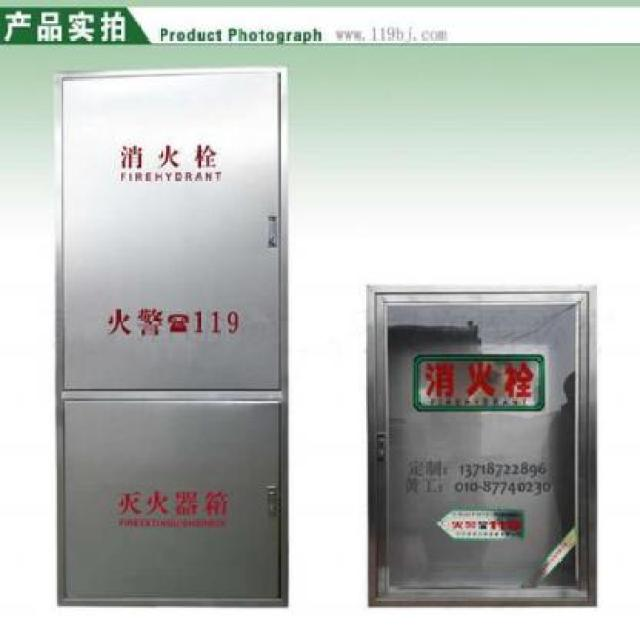firehydrant: (49, 62, 296, 613), (360, 277, 605, 615)
